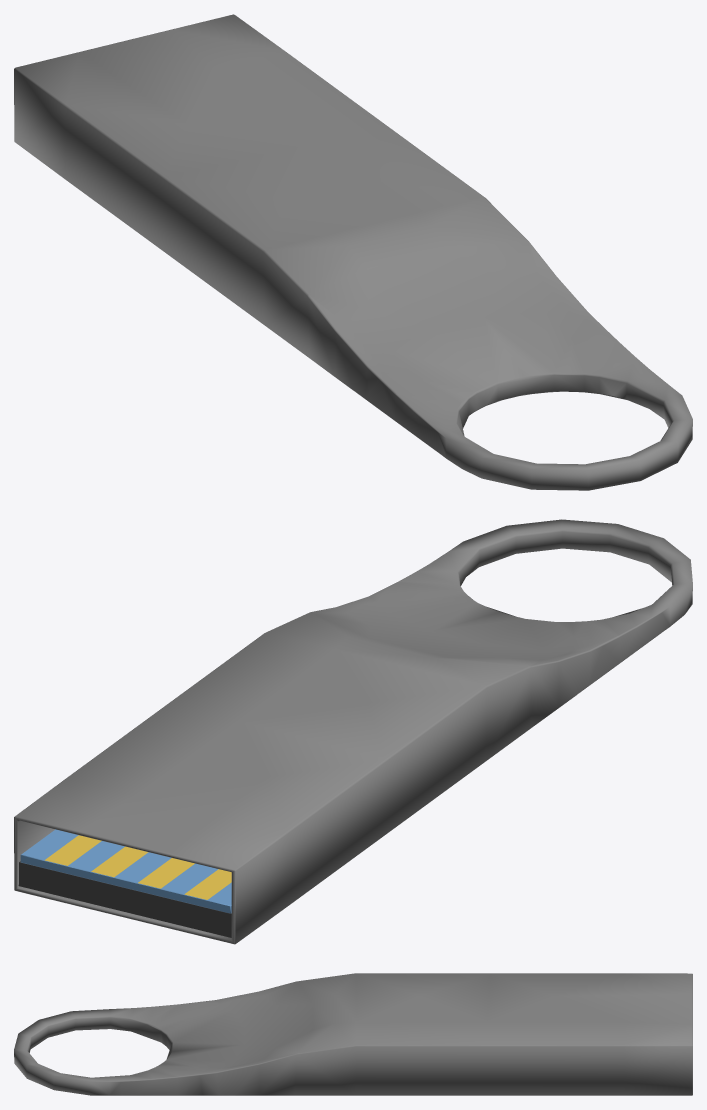
The model's file is usb_decimate.fbx.
3 renders of one model, top to bottom at view 1: azimuth 30°, elevation 25°; view 2: azimuth 150°, elevation 25°; view 3: azimuth 270°, elevation 25°, orthographic. The views are drawn at different scales.
Parts seen in each view (by area): view 1: USB; view 2: USB; view 3: USB.
Part boxes in pixels (x1,y1,x2,y2): USB: (14,14,692,490); USB: (14,519,692,944); USB: (14,973,692,1095).
Bounding box in the file's own units: 0.0869 × 0.0281 × 0.3416.
